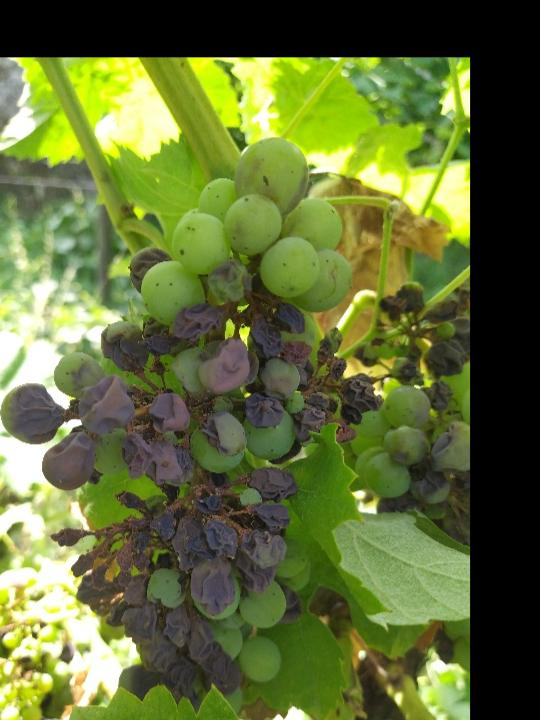grape: (0, 132, 387, 716)
